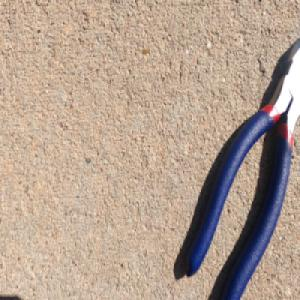Pliers: (183, 34, 300, 300)
